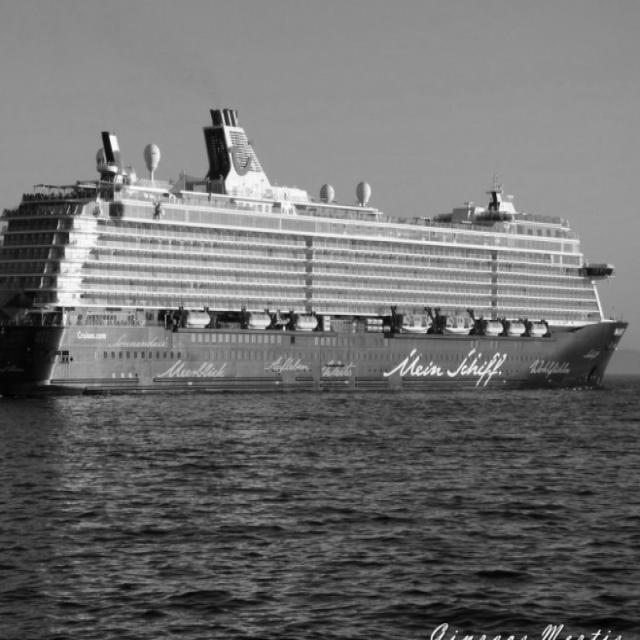cruises: (1, 97, 632, 402)
